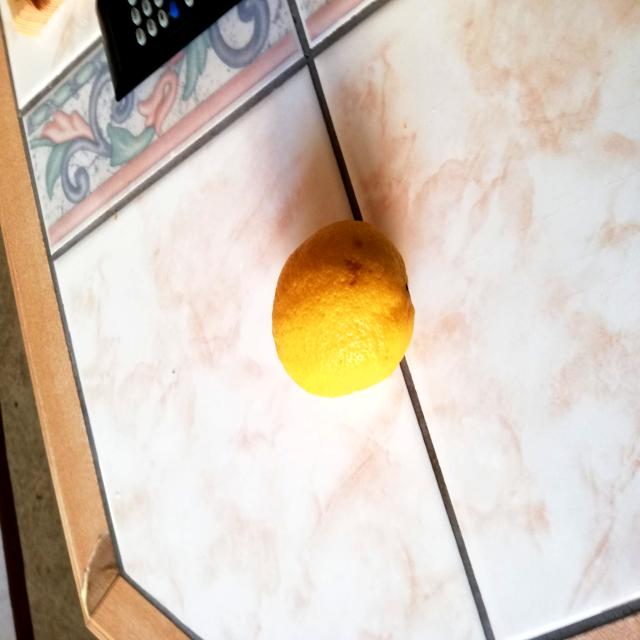lemon: (267, 214, 421, 403)
